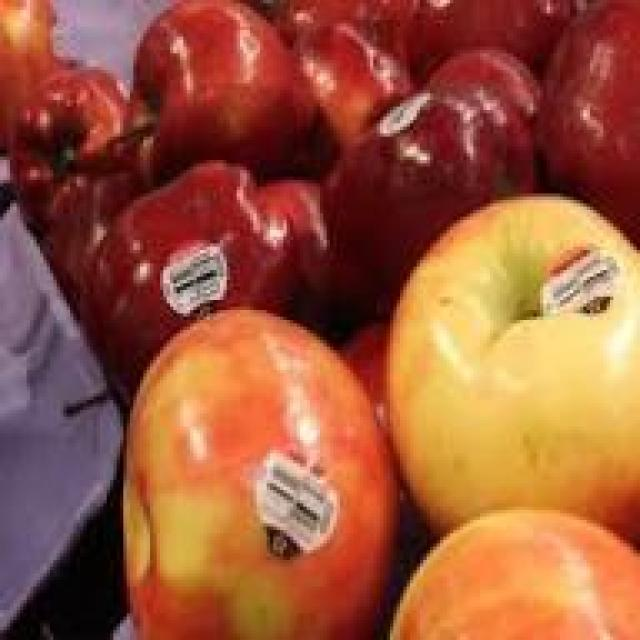apple: (140, 310, 393, 630), (393, 184, 630, 514), (323, 77, 540, 273), (90, 157, 297, 360), (13, 60, 147, 217)
